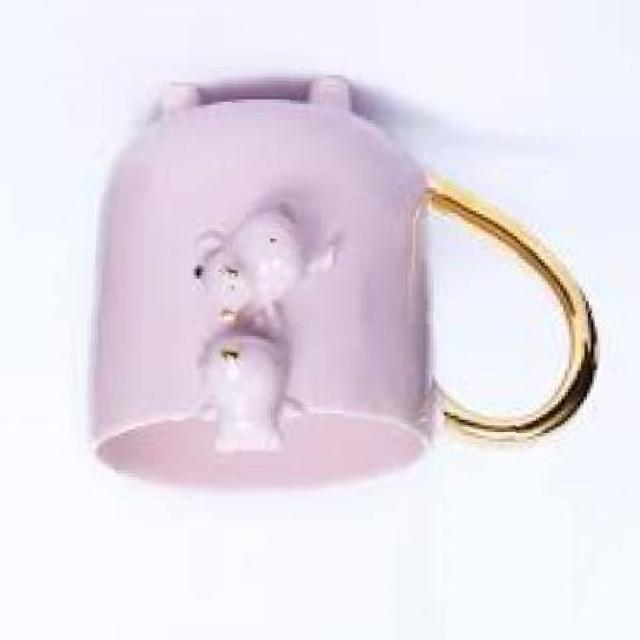cup: (76, 64, 615, 500)
